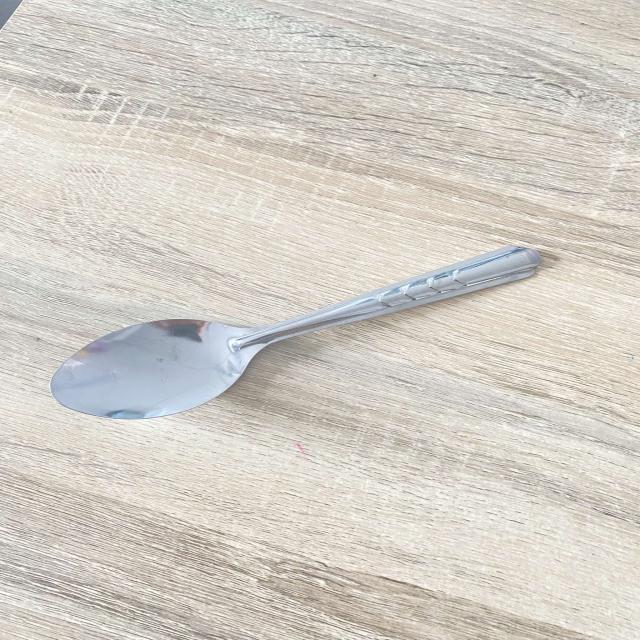spoon: (52, 239, 552, 440)
